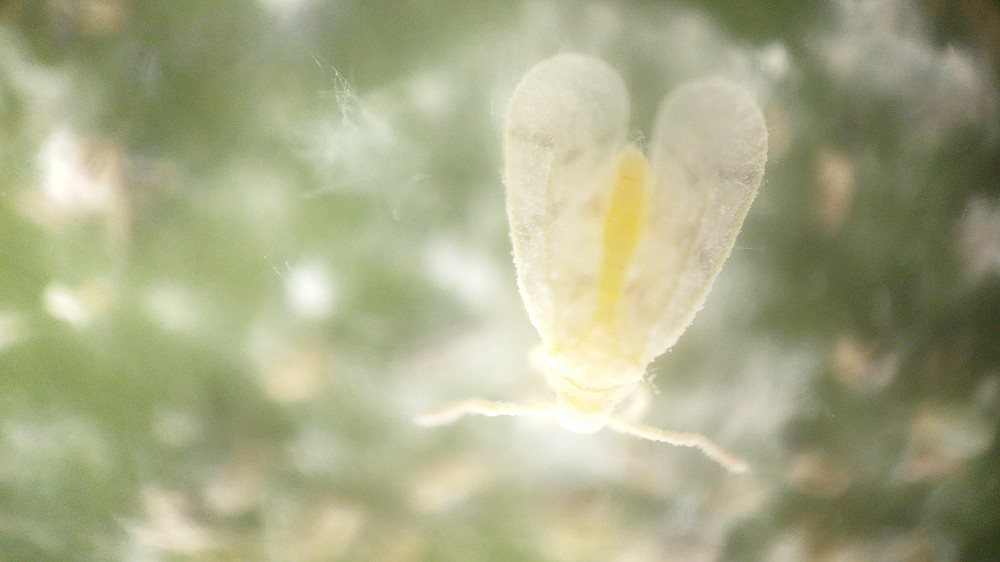Mosca Blanca: (412, 39, 797, 507)
